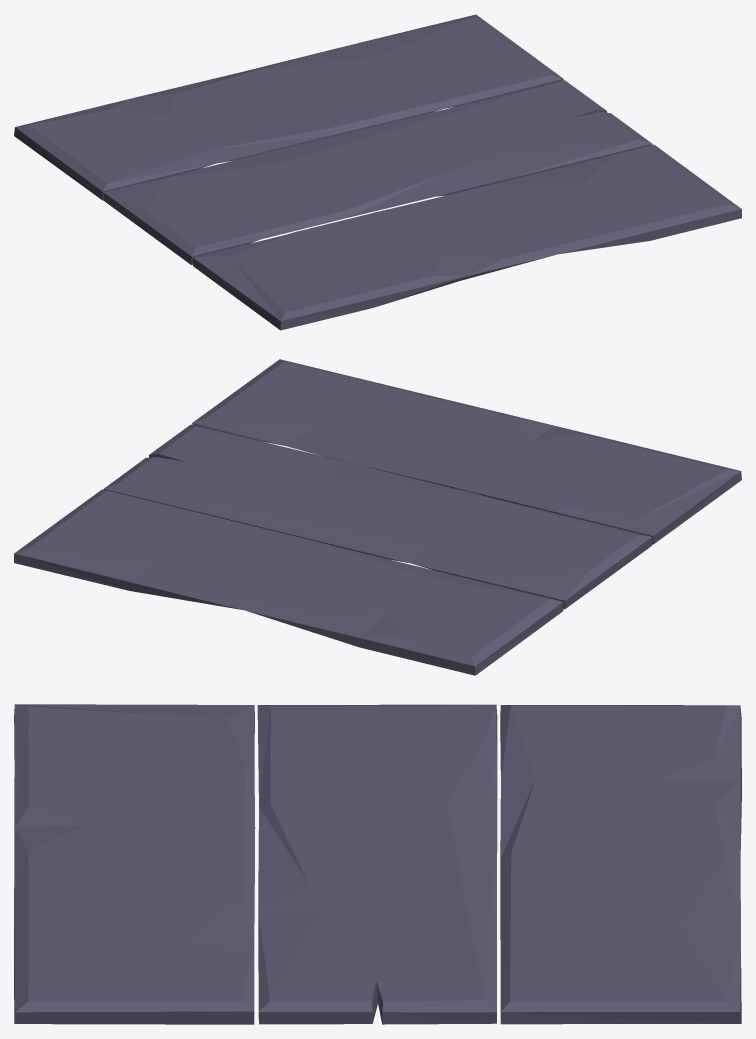
Rendered from SFFA_Box_Lid.fbx.
3 views of the same model, one above another, from view 1: azimuth 30°, elevation 25°; view 2: azimuth 150°, elevation 25°; view 3: azimuth 270°, elevation 25° (orthographic). The views are drawn at different scales.
Parts seen in each view (by area): view 1: SFFA_Box_Lid; view 2: SFFA_Box_Lid; view 3: SFFA_Box_Lid.
Boxes of the visible parts, x1=… form: SFFA_Box_Lid: x1=14, y1=14, x2=741, y2=330; SFFA_Box_Lid: x1=14, y1=359, x2=741, y2=675; SFFA_Box_Lid: x1=14, y1=704, x2=741, y2=1024.
Size of the model in its own units: 59.8 by 1.66 by 59.83.
